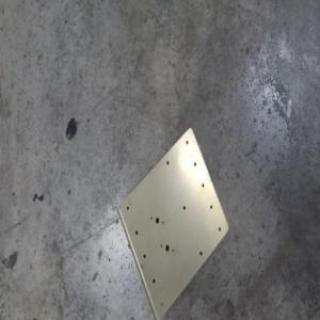MetalSheettrack_idkeyframe: (114, 127, 228, 319)
